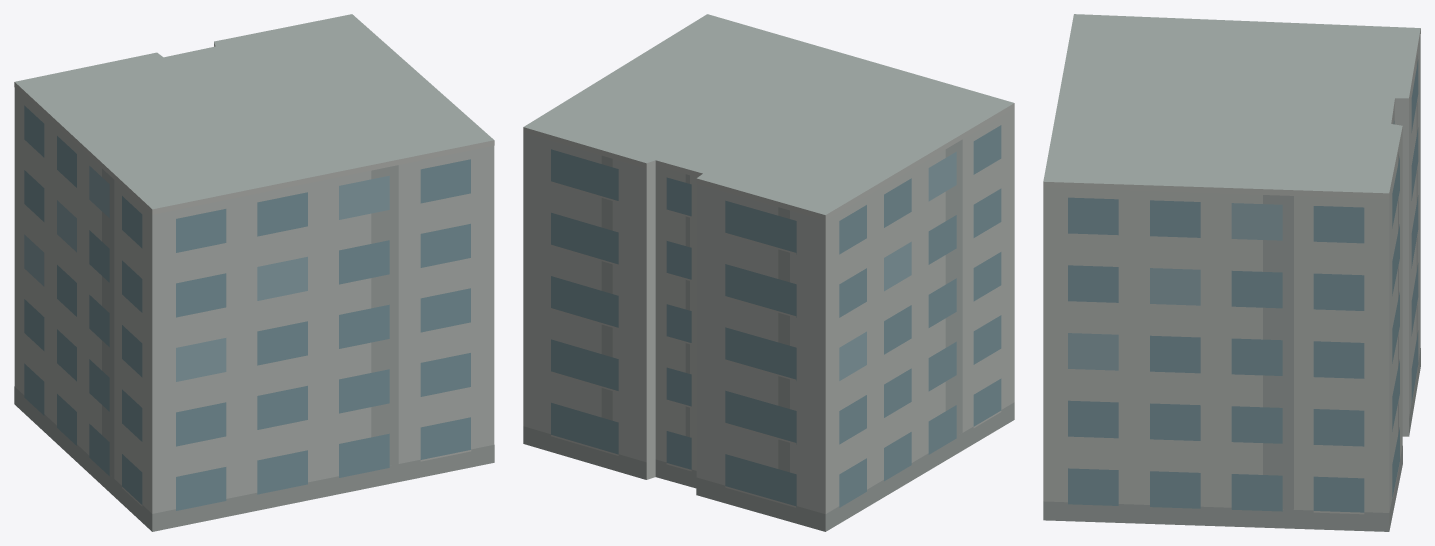
Rendered from survey-upis-32869560.glb.
3 renders of one model, left to right at view 1: azimuth 30°, elevation 25°; view 2: azimuth 150°, elevation 25°; view 3: azimuth 270°, elevation 25°, orthographic. The views are drawn at different scales.
Parts seen in each view (by area): view 1: survey-upis-32869560.tmp; view 2: survey-upis-32869560.tmp; view 3: survey-upis-32869560.tmp.
Boxes of the visible parts, x1,y1,x2,y2 form: survey-upis-32869560.tmp: [14, 14, 494, 531]; survey-upis-32869560.tmp: [523, 14, 1014, 531]; survey-upis-32869560.tmp: [1043, 14, 1420, 531].
Size of the model in its own units: 16.14 by 14.2 by 14.36.
